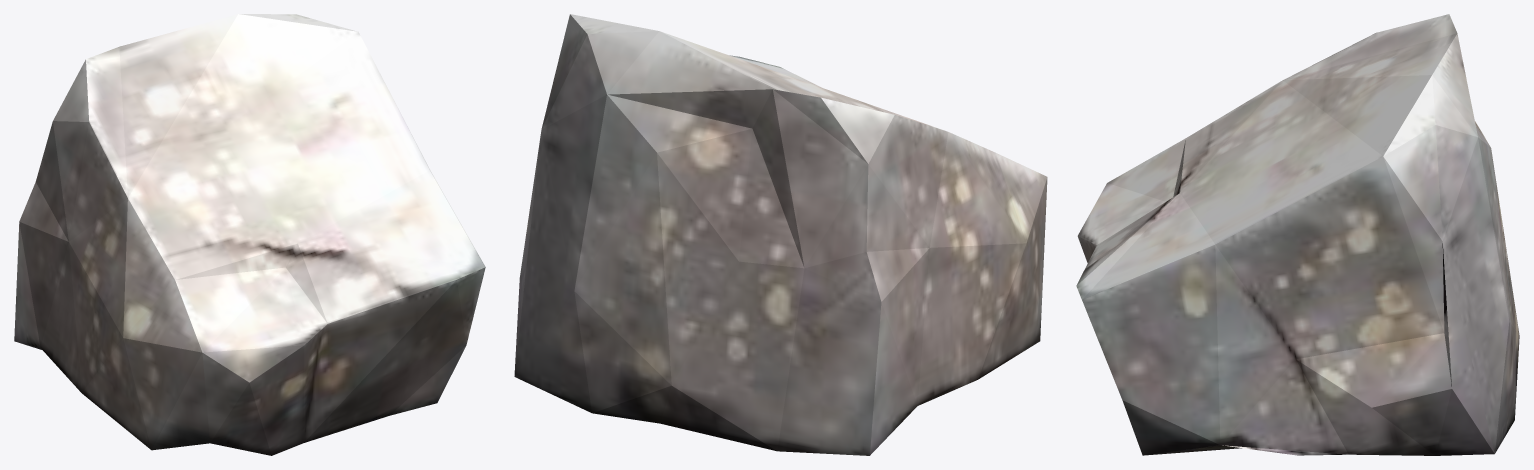
The model's file is ga3_rock_b_lod0.glb.
The picture shows the model from 3 angles, left to right: view 1: azimuth 30°, elevation 25°; view 2: azimuth 150°, elevation 25°; view 3: azimuth 270°, elevation 25°; orthographic projection. The views are drawn at different scales.
Parts seen in each view (by area): view 1: ga3_rock_b_lod0; view 2: ga3_rock_b_lod0; view 3: ga3_rock_b_lod0.
Part boxes in pixels (x1=…): ga3_rock_b_lod0: x1=14, y1=14, x2=485, y2=455; ga3_rock_b_lod0: x1=514, y1=14, x2=1047, y2=455; ga3_rock_b_lod0: x1=1076, y1=14, x2=1519, y2=455.
Bounding box in the file's own units: 0.9414 × 0.8691 × 0.9998.
1 material, 1 textured.
